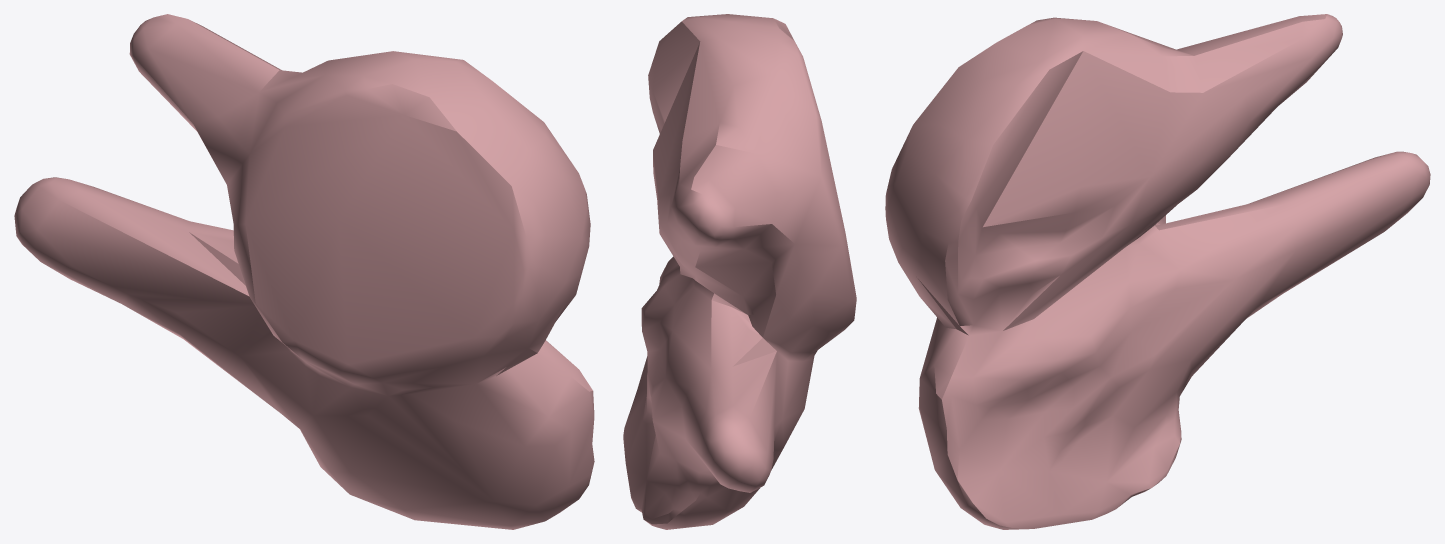
Rendered from fma7265_fj2418.glb.
3 views of the same model, side by side, from view 1: azimuth 30°, elevation 25°; view 2: azimuth 150°, elevation 25°; view 3: azimuth 270°, elevation 25° (orthographic). The views are drawn at different scales.
Visible parts, largest first — view 1: FMA7265_FJ2418; view 2: FMA7265_FJ2418; view 3: FMA7265_FJ2418.
Part boxes in pixels (left/top/right/bottom): FMA7265_FJ2418: left=14, top=14, right=594, bottom=529; FMA7265_FJ2418: left=623, top=14, right=856, bottom=529; FMA7265_FJ2418: left=885, top=14, right=1430, bottom=529.
Bounding box in the file's own units: 0.025 × 0.0328 × 0.0355.
